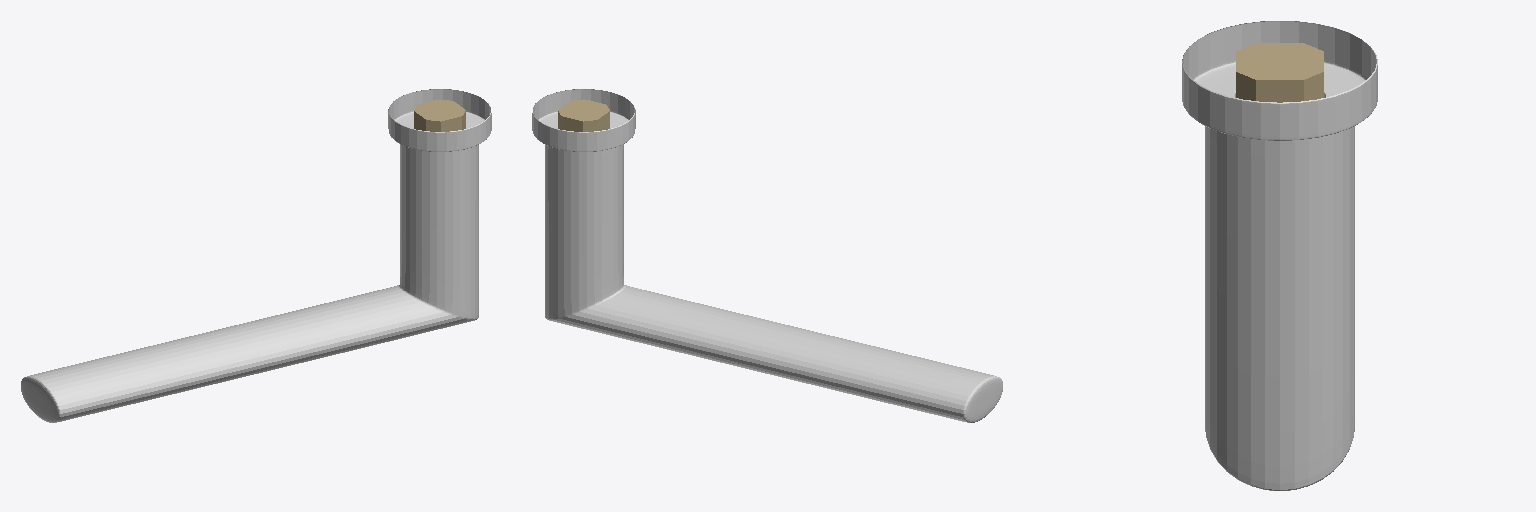
URDF robot description (window):
<?xml version="1.0" ?>
<robot name="window">
	<link name="base"/>
	<link name="link_0">
		<visual name="out-frame">
			<origin xyz="0 0 0"/>
			<geometry>
				<mesh filename="texture_dae/untitled.dae" scale="0.5 0.5 0.5"/>
			</geometry>
		</visual>
		<collision>
			<origin xyz="0 0 0"/>
			<geometry>
				<mesh filename="texture_dae/untitled.dae" scale="0.5 0.5 0.5"/>
			</geometry>
		</collision>
	</link>
	<joint name="joint_0" type="fixed">
		<origin rpy="1.570796326794897 0 -1.570796326794897" xyz="0 0 0"/>
		<child link="link_0"/>
		<parent link="base"/>
	</joint>
	<link name="link_1">
		<visual name="surf-board">
			<origin xyz="0.30546158315543975 -0.5833843402065071 0"/>
			<geometry>
				<mesh filename="texture_dae/untitled1.dae" scale="0.5 0.5 0.5"/>
			</geometry>
		</visual>
		<collision>
			<origin xyz="0.30546158315543975 -0.5833843402065071 0"/>
			<geometry>
				<mesh filename="texture_dae/untitled1.dae" scale="0.5 0.5 0.5"/>
			</geometry>
		</collision>
	</link>
	<joint name="joint_1" type="revolute">
		<origin xyz="-0.30546158315543975 0.5833843402065071 0"/>
		<axis xyz="0 -1 0"/>
		<child link="link_1"/>
		<parent link="link_0"/>
		<limit lower="0" upper="1.5079644737231006"/>
	</joint>
	<link name="link_2">
		<visual name="handle">
			<origin xyz="0 0 0"/>
			<geometry>
				<mesh filename="texture_dae/9969526-handle.dae" scale="1.1308174133174347 1.1308174133174347 1.1308174133174347"/>
			</geometry>
		</visual>
		<collision>
			<origin xyz="0 0 0"/>
			<geometry>
				<mesh filename="texture_dae/9969526-handle.dae" scale="1.1308174133174347 1.1308174133174347 1.1308174133174347"/>
			</geometry>
		</collision>
	</link>
	<joint name="joint_2" type="revolute">
		<origin xyz="0 0 0"/>
		<child link="link_2"/>
		<parent link="link_3"/>
		<axis xyz="0 0 1"/>
		<limit lower="0" upper="1.5079644737231006"/>
	</joint>
	<link name="link_3">
		<visual name="lock">
			<origin xyz="0 0 0"/>
			<geometry>
				<mesh filename="texture_dae/9969526-lock.dae" scale="1.1308174133174347 1.1308174133174347 1.1308174133174347"/>
			</geometry>
		</visual>
		<collision>
			<origin xyz="0 0 0"/>
			<geometry>
				<mesh filename="texture_dae/9969526-lock.dae" scale="1.1308174133174347 1.1308174133174347 1.1308174133174347"/>
			</geometry>
		</collision>
	</link>
	<joint name="joint_3" type="fixed">
		<origin xyz="0.57960002006893 -0.5833843402065071 0.028971898873196622"/>
		<child link="link_3"/>
		<parent link="link_1"/>
	</joint>
</robot>

--- What the picture shows (computed from the rendered views, not written in the file) ---
The picture shows the robot from 3 angles, left to right: view 1: azimuth 30°, elevation 25°; view 2: azimuth 150°, elevation 25°; view 3: azimuth 270°, elevation 25°; orthographic projection.
Robot: window — 5 links, 4 joints (2 revolute, 2 fixed); root link base; default pose: every joint at zero.
Visible links, largest first — view 1: link_2, link_3; view 2: link_2, link_3; view 3: link_2, link_3.
Boxes of the visible links, box(x1,y1,x2,y2) form: link_2: box(21, 127, 478, 422); link_3: box(388, 89, 491, 151); link_2: box(545, 127, 1002, 422); link_3: box(532, 89, 635, 151); link_2: box(1205, 89, 1354, 490); link_3: box(1182, 21, 1377, 140).
Size in the robot's own frame: 0.1536 by 0.0308 by 0.0693 metres.
2 mesh visuals loaded from 4 distinct referenced files (2 Collada DAE); not drawn: 2 (reference not matched to a file when rendering).
